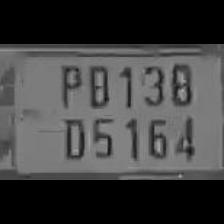1: (112, 61, 138, 109), (118, 114, 140, 162)
3: (139, 60, 166, 108)
4: (170, 111, 196, 160)
5: (86, 113, 116, 162)
6: (142, 112, 169, 160)
B: (82, 61, 112, 109), (167, 58, 194, 108)
D: (57, 113, 87, 162)
P: (54, 60, 84, 110)
